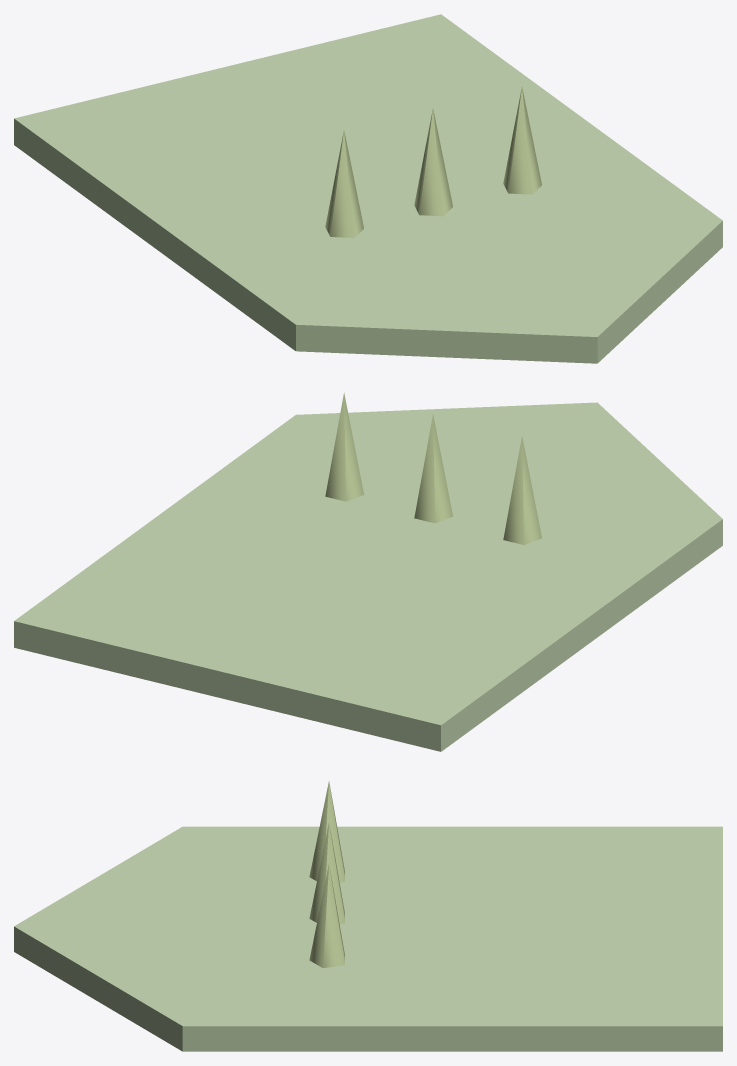
Rendered from grassland.glb.
3 renders of one model, top to bottom at view 1: azimuth 30°, elevation 25°; view 2: azimuth 150°, elevation 25°; view 3: azimuth 270°, elevation 25°, orthographic. The views are drawn at different scales.
Parts seen in each view (by area): view 1: grass-card-base, grass-0.35, grass-0, grass--0.35; view 2: grass-card-base, grass-0, grass--0.35, grass-0.35; view 3: grass-card-base, grass-0.35, grass--0.35, grass-0.
Boxes of the visible parts, bbox=[...] form: grass-card-base: bbox=[14, 14, 722, 363]; grass-0.35: bbox=[503, 86, 541, 194]; grass-0: bbox=[414, 108, 452, 216]; grass--0.35: bbox=[325, 130, 363, 237]; grass-card-base: bbox=[14, 402, 722, 751]; grass-0: bbox=[414, 414, 452, 523]; grass--0.35: bbox=[503, 436, 541, 544]; grass-0.35: bbox=[325, 392, 363, 501]; grass-card-base: bbox=[14, 826, 722, 1051]; grass-0.35: bbox=[309, 864, 344, 968]; grass--0.35: bbox=[309, 781, 344, 882]; grass-0: bbox=[309, 822, 344, 924].
Size of the model in its own units: 1.68 by 0.51 by 2.52.
